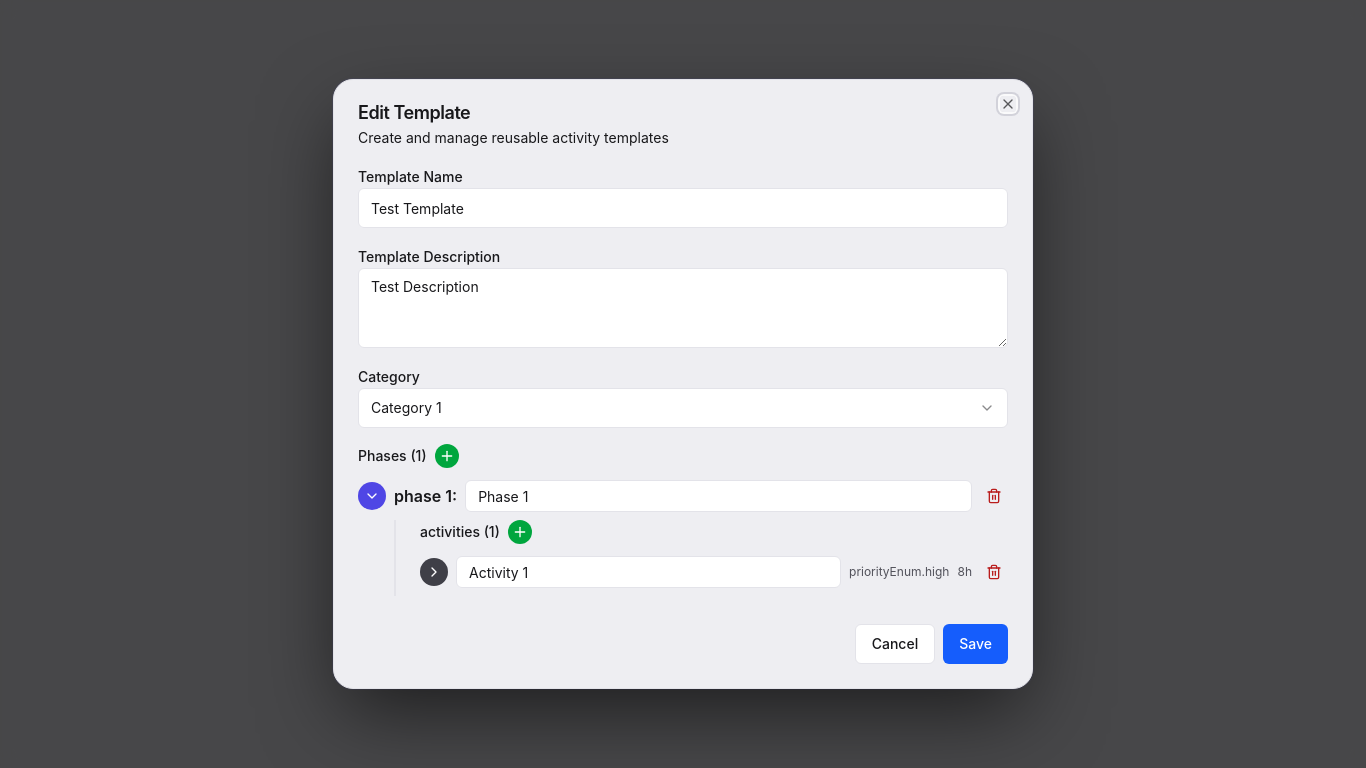
Test case: EditTemplateDialog › should display inline validation errors from API
The width and height of the screenshot is (1366, 768).
Check: the field showing "Test Template" is shown, box [358,188,1008,228]
Note: Submit form
Click the button "Save". click: x=976, y=644
box: [943,624,1008,664]
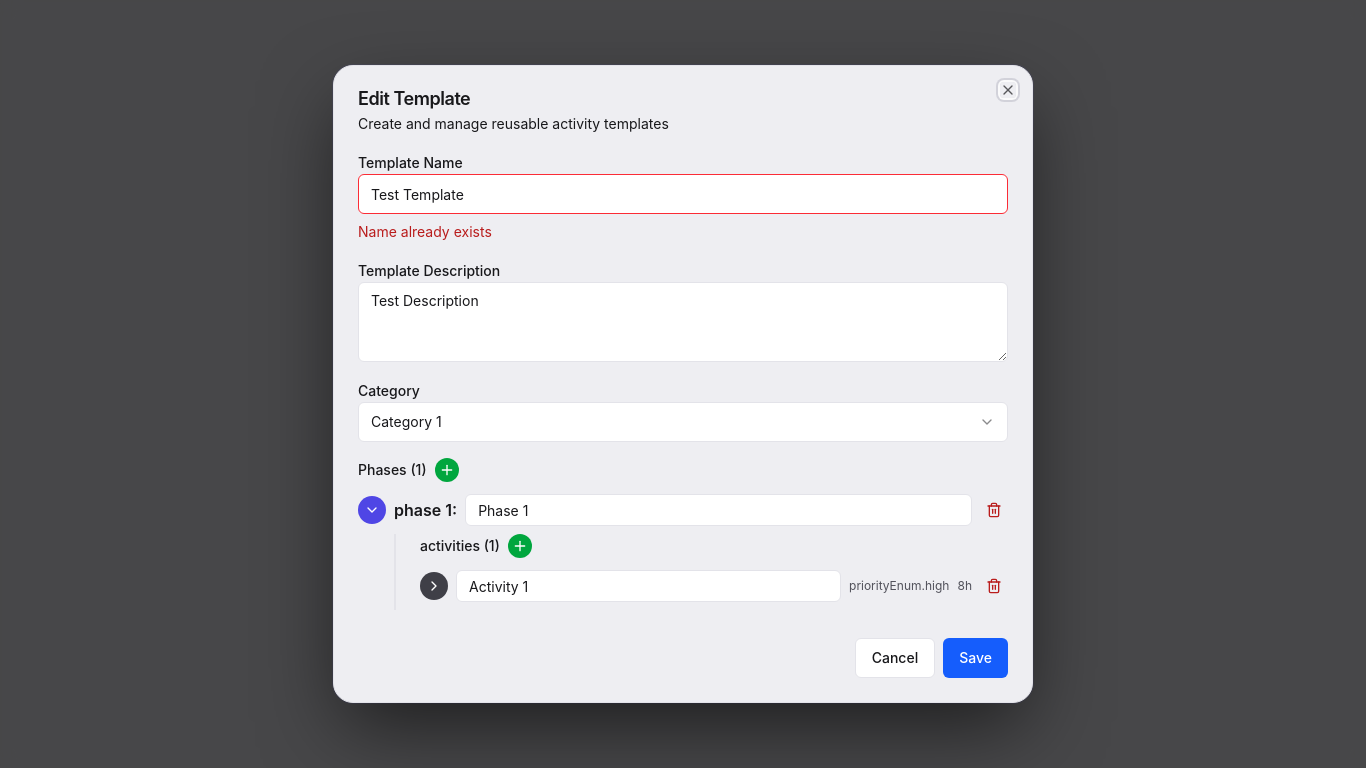
Check: the text "Name already exists" is shown, box [358,223,492,240]
